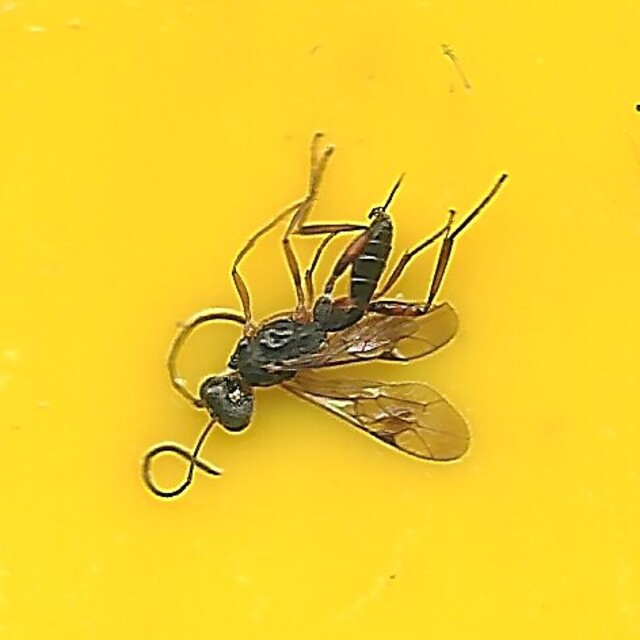Hymenoptera: (136, 136, 504, 504)
